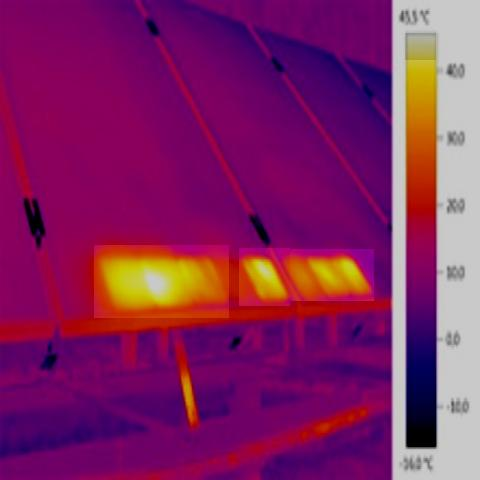fault: (94, 245, 229, 318), (286, 250, 374, 302), (239, 248, 290, 306), (405, 33, 436, 60)
